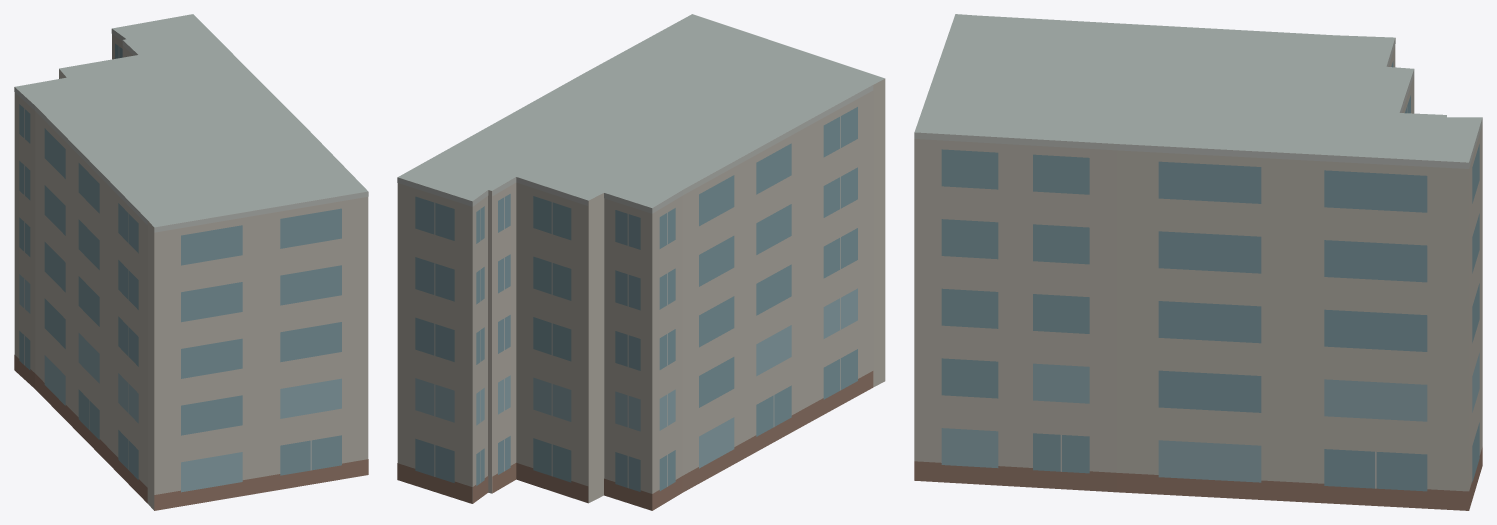
Rendered from survey-upis-32976028.glb.
3 renders of one model, left to right at view 1: azimuth 30°, elevation 25°; view 2: azimuth 150°, elevation 25°; view 3: azimuth 270°, elevation 25°, orthographic. The views are drawn at different scales.
Visible parts, largest first — view 1: survey-upis-32976028.tmp; view 2: survey-upis-32976028.tmp; view 3: survey-upis-32976028.tmp.
Part boxes in pixels (x1,y1,x2,y2): survey-upis-32976028.tmp: (14, 14, 368, 510); survey-upis-32976028.tmp: (397, 14, 885, 510); survey-upis-32976028.tmp: (914, 14, 1482, 510).
Size of the model in its own units: 12.09 by 13.2 by 19.53.
